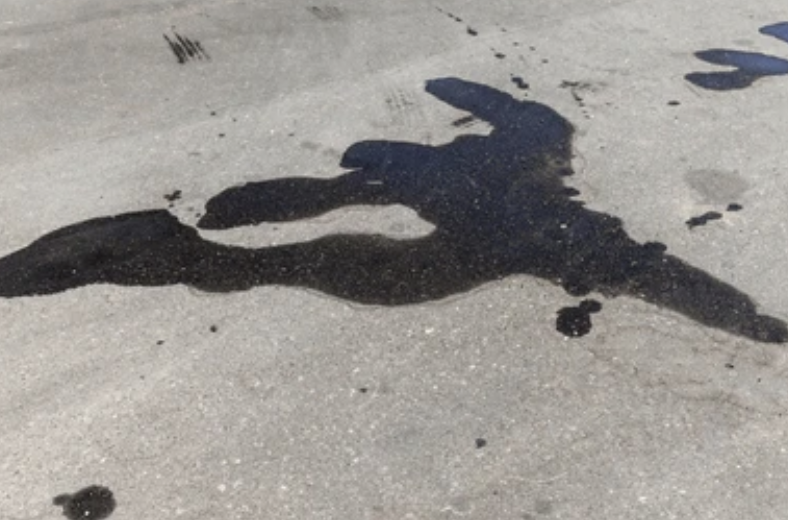oil: (3, 39, 392, 174), (344, 10, 394, 43), (26, 241, 58, 259)
